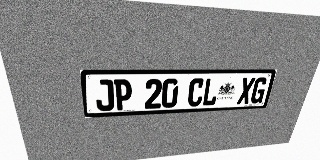0: (161, 79, 179, 108)
2: (145, 79, 162, 109)
C: (187, 78, 205, 107)
G: (249, 77, 269, 104)
J: (94, 79, 114, 111)
L: (201, 78, 220, 106)
P: (114, 79, 132, 110)
X: (236, 77, 256, 104)
